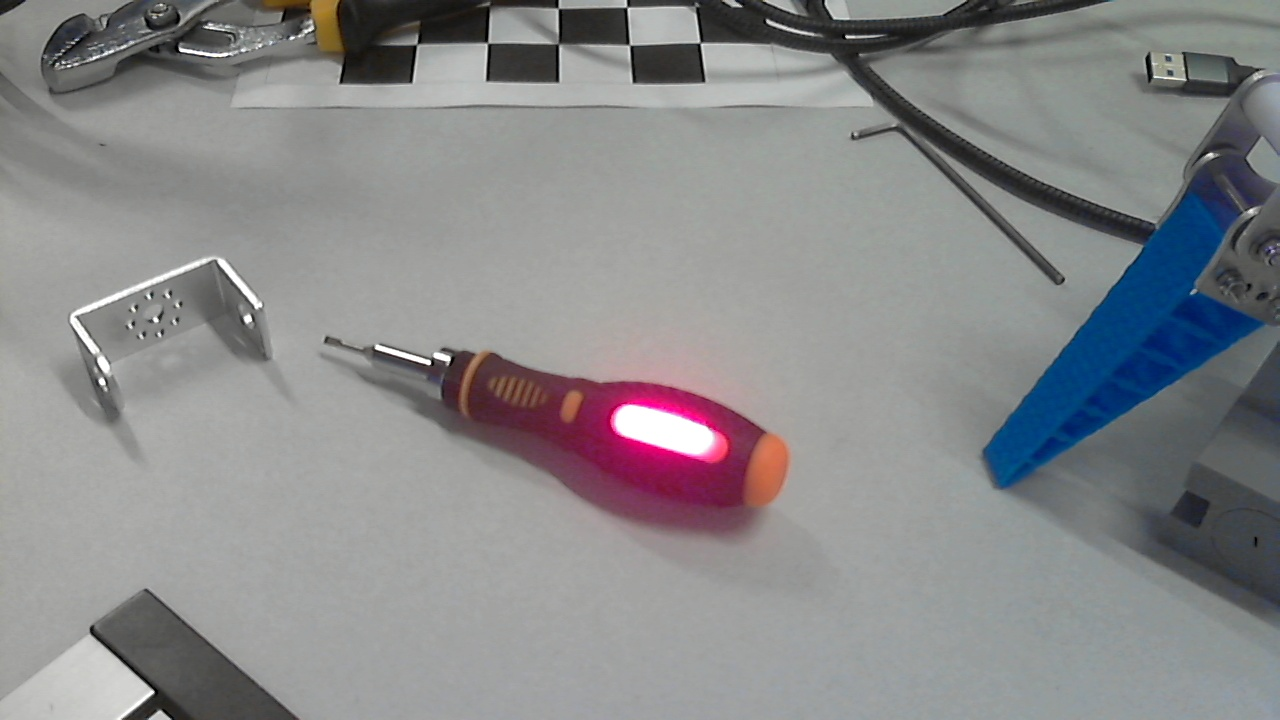Object precision screwdriver - Material Metal - Pdfname NoEr35VbQ7sR: (569, 367, 750, 495)
